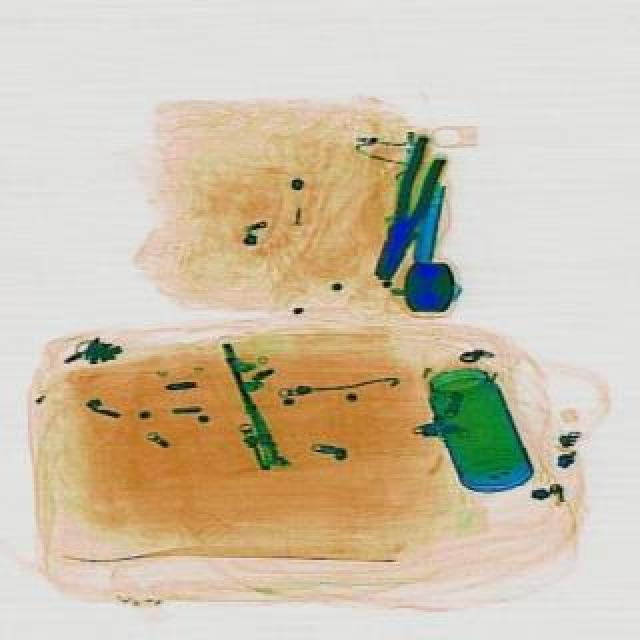wrench: (362, 136, 452, 284)
